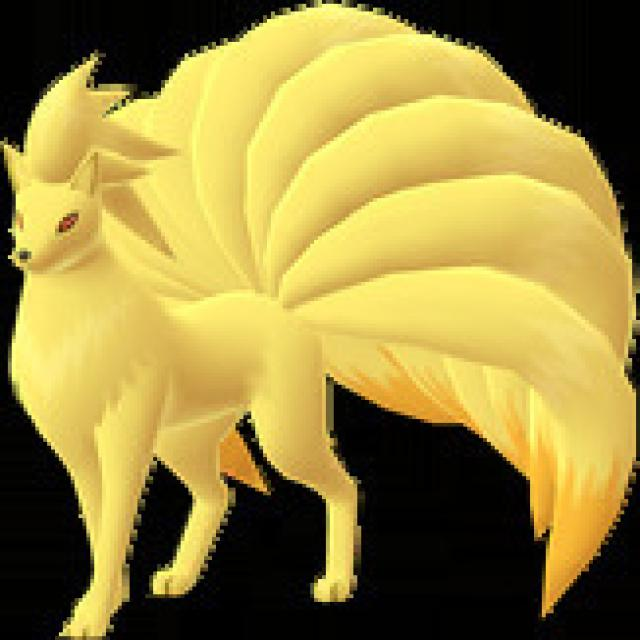Ninetales: (4, 20, 610, 618)
